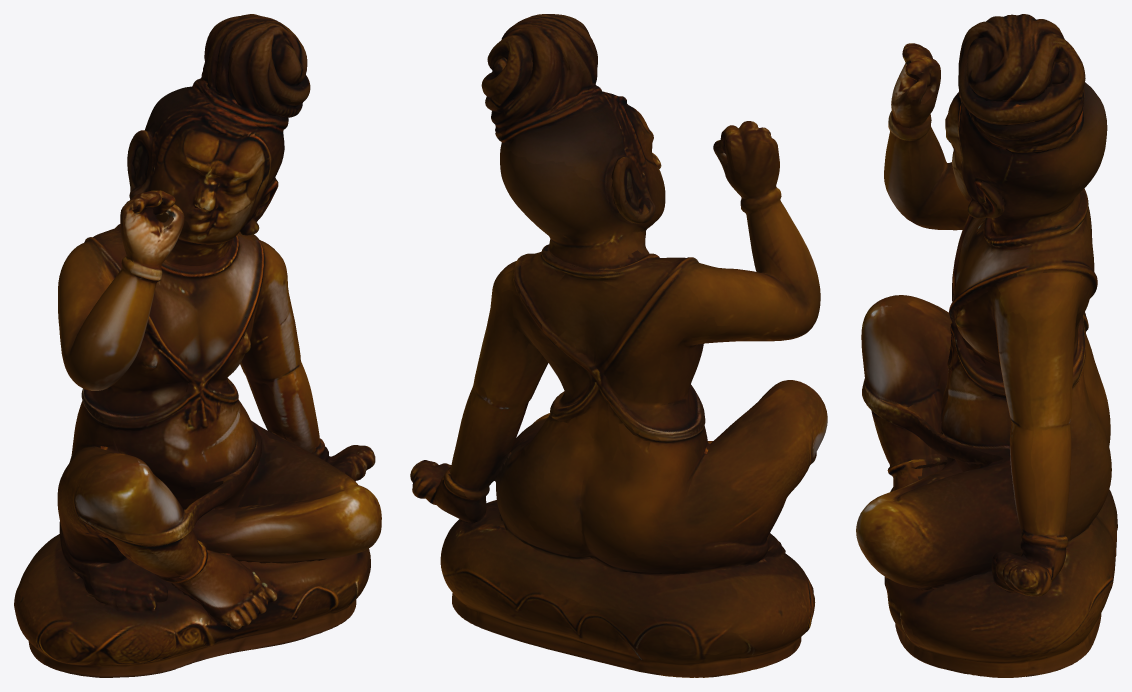
3 renders of one model, left to right at view 1: azimuth 30°, elevation 25°; view 2: azimuth 150°, elevation 25°; view 3: azimuth 270°, elevation 25°, orthographic. The views are drawn at different scales.
Parts seen in each view (by area): view 1: textured_mesh; view 2: textured_mesh; view 3: textured_mesh.
Part boxes in pixels (<box>): textured_mesh: <box>14,14,381,677</box>; textured_mesh: <box>410,14,827,677</box>; textured_mesh: <box>856,14,1117,677</box>.
Bounding box in the file's own units: 1.32 × 1.99 × 0.7702.
1 material, 1 textured.
